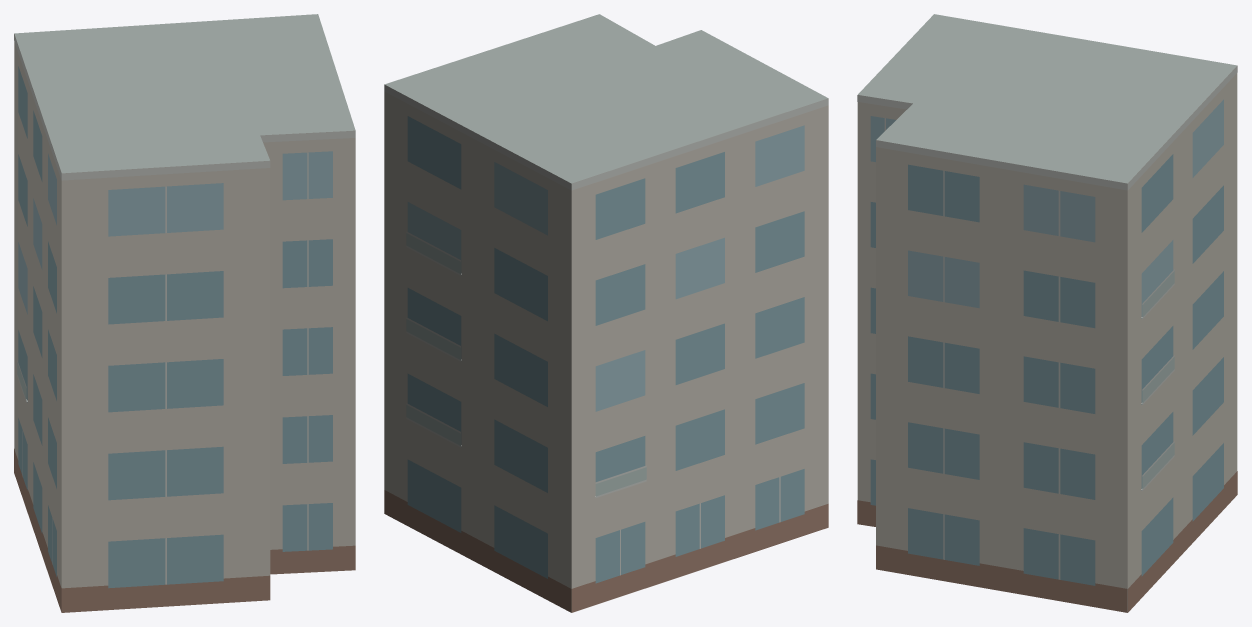
Rendered from survey-upis-32531610.glb.
The picture shows the model from 3 angles, left to right: view 1: azimuth 30°, elevation 25°; view 2: azimuth 150°, elevation 25°; view 3: azimuth 270°, elevation 25°; orthographic projection. The views are drawn at different scales.
Parts seen in each view (by area): view 1: survey-upis-32531610.tmp; view 2: survey-upis-32531610.tmp; view 3: survey-upis-32531610.tmp.
Part boxes in pixels (bbox=[...]): survey-upis-32531610.tmp: bbox=[14, 14, 355, 612]; survey-upis-32531610.tmp: bbox=[384, 14, 828, 612]; survey-upis-32531610.tmp: bbox=[857, 14, 1237, 612].
Size of the model in its own units: 12.63 by 14.9 by 11.96.
